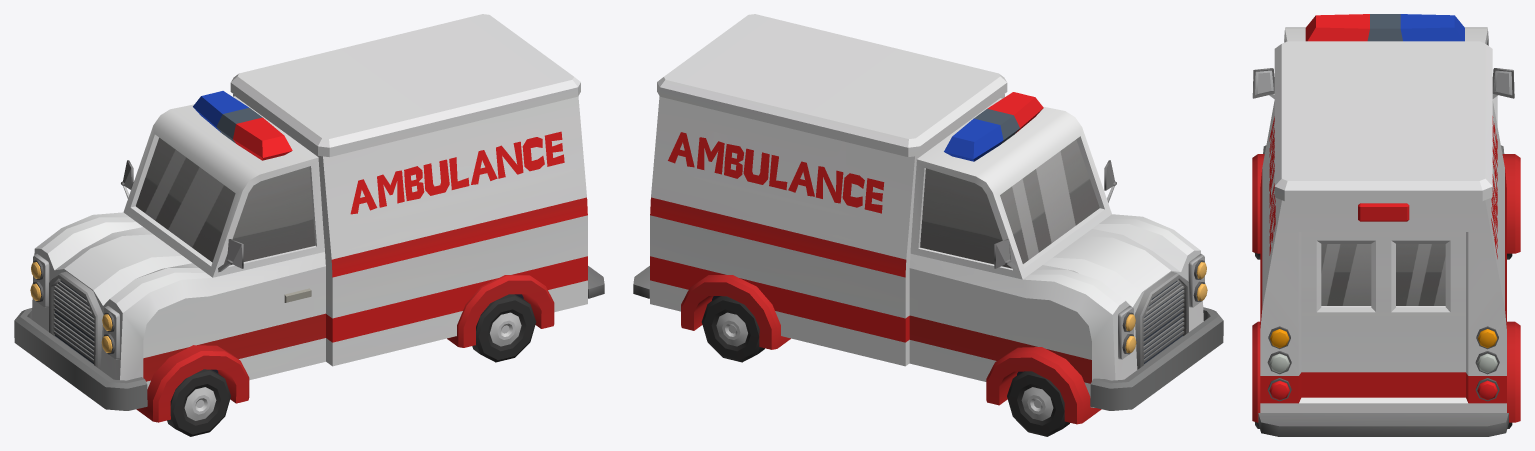
Rendered from Ambulance_2_B.gltf.
3 renders of one model, left to right at view 1: azimuth 30°, elevation 25°; view 2: azimuth 150°, elevation 25°; view 3: azimuth 270°, elevation 25°, orthographic. The views are drawn at different scales.
Parts seen in each view (by area): view 1: Ambulance_2_B, RL, FL; view 2: Ambulance_2_B, RR, FR; view 3: Ambulance_2_B.
Part boxes in pixels (left/top/right/bottom): Ambulance_2_B: left=14, top=14, right=604, bottom=422; RL: left=472, top=294, right=536, bottom=362; FL: left=167, top=369, right=230, bottom=436; Ambulance_2_B: left=633, top=14, right=1223, bottom=424; RR: left=701, top=296, right=764, bottom=362; FR: left=1007, top=371, right=1069, bottom=436; Ambulance_2_B: left=1252, top=14, right=1520, bottom=436.
Size of the model in its own units: 4.08 by 1.99 by 1.68.
4 materials, 4 textured.
